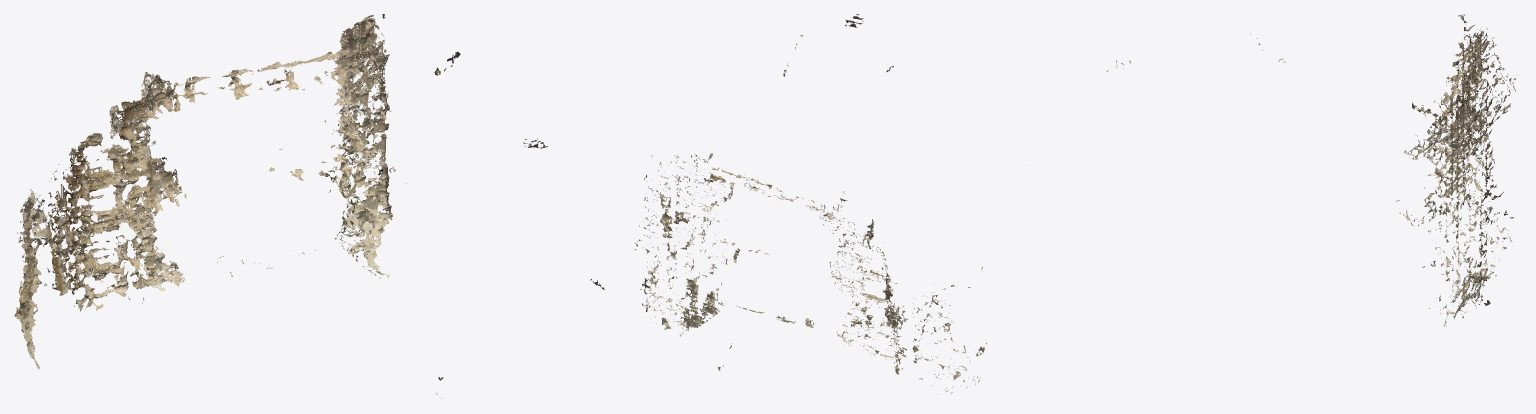
The model's file is templeSparseRing.glb.
3 renders of one model, left to right at view 1: azimuth 30°, elevation 25°; view 2: azimuth 150°, elevation 25°; view 3: azimuth 270°, elevation 25°, orthographic. The views are drawn at different scales.
Parts seen in each view (by area): view 1: templeSparseRing.ply; view 2: templeSparseRing.ply; view 3: templeSparseRing.ply.
Part boxes in pixels (left/top/right/bottom): templeSparseRing.ply: left=14, top=14, right=604, bottom=394; templeSparseRing.ply: left=635, top=14, right=986, bottom=394; templeSparseRing.ply: left=1107, top=14, right=1515, bottom=326.
Size of the model in its own units: 0.7008 by 0.6651 by 0.8666.
